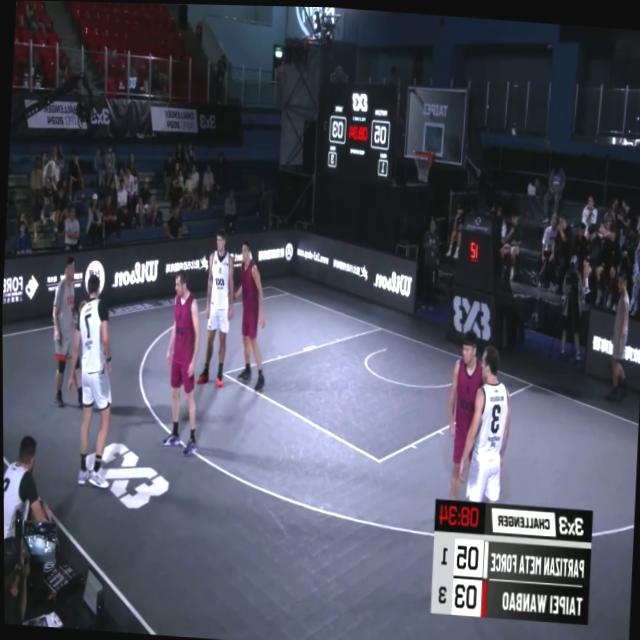ball: (76, 295, 91, 323)
hoop: (410, 143, 437, 184)
player: (66, 270, 121, 486), (456, 335, 512, 530), (158, 268, 206, 458), (443, 331, 487, 506), (230, 237, 269, 390), (195, 232, 234, 384)
